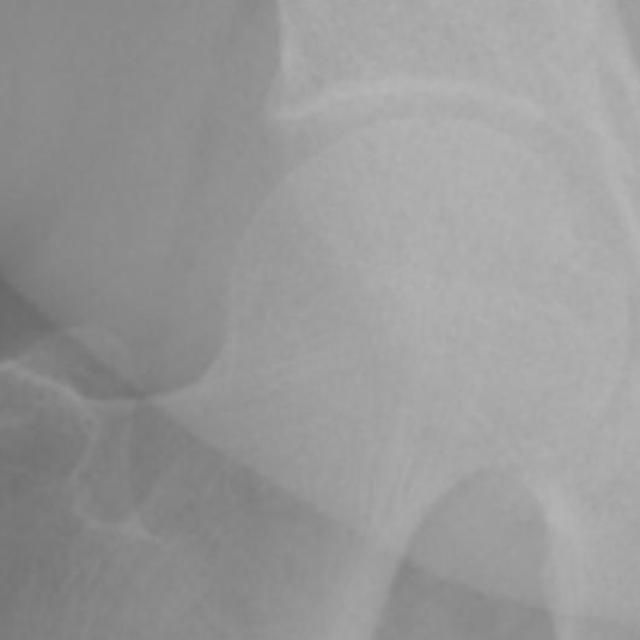Fitted_femural_head: (390, 121, 432, 390)
